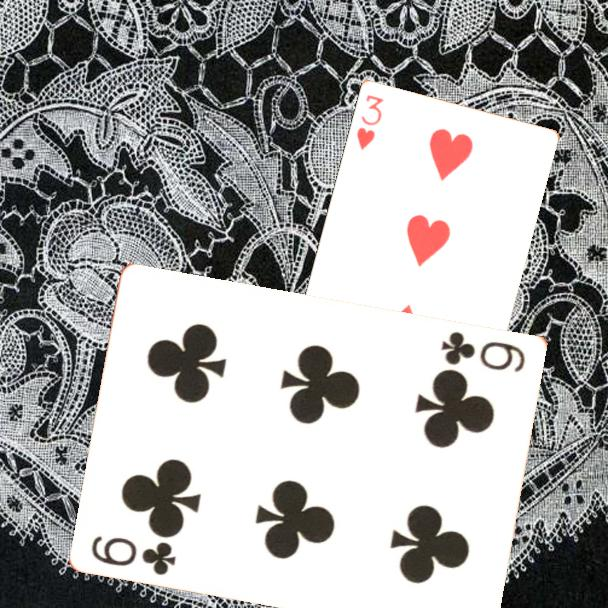c06: (438, 327, 529, 375), (88, 532, 179, 578)
h03: (353, 91, 386, 153)
